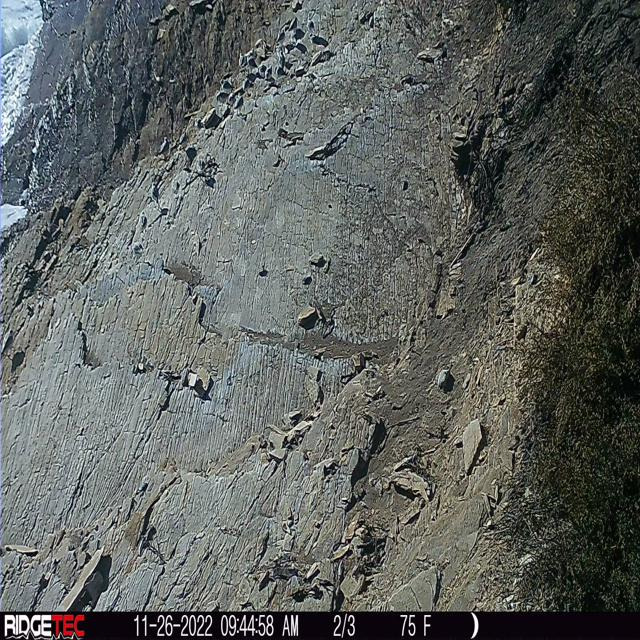bird: (198, 11, 324, 127)
